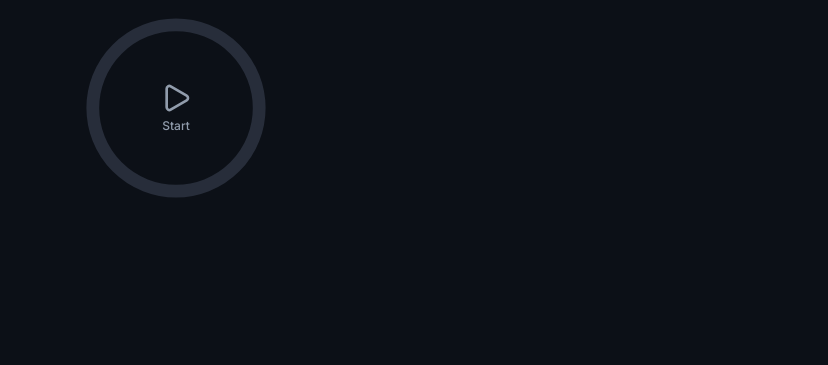
Test: B404 — Previous phase at the start of a set › goes back to the rest before it, and that rest leads back to the same set
The image size is (828, 365).
Step 1. Click the button "Start" → (176, 108), box [160, 82, 192, 134]
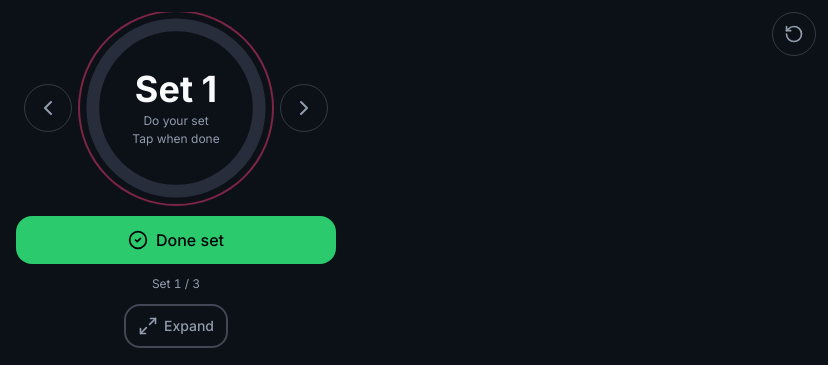
Step 2. Click the button "Done set" → (176, 240), box [16, 216, 336, 264]
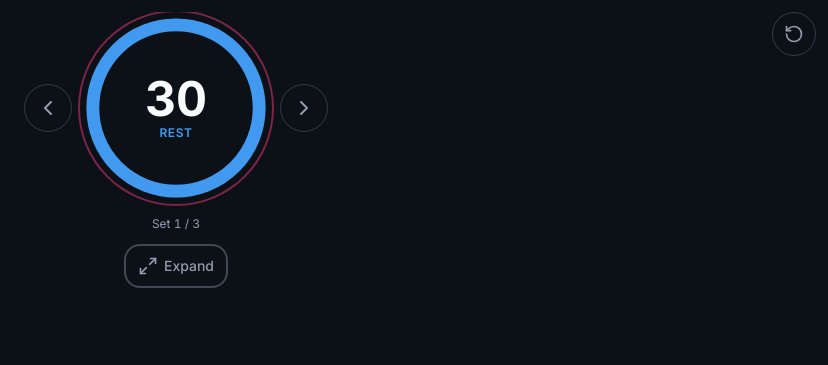
Step 3. Click the button named "next phase" → (304, 108), box [280, 84, 328, 132]
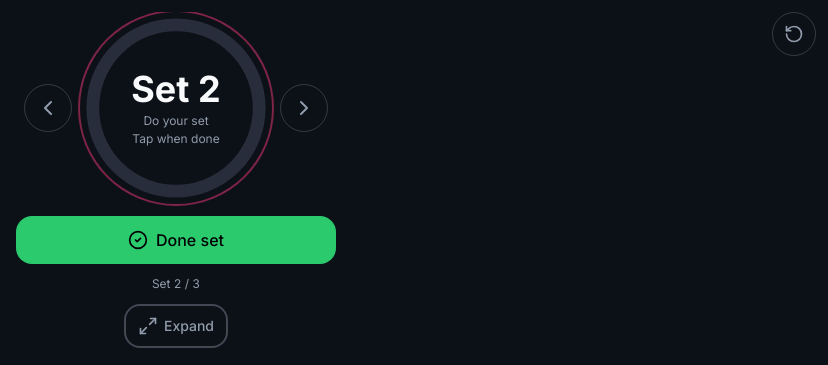
Expected: the text "Set 2" is shown, [131, 69, 221, 109]
Step 4. Click the button named "previous phase" → (48, 108), box [24, 84, 72, 132]
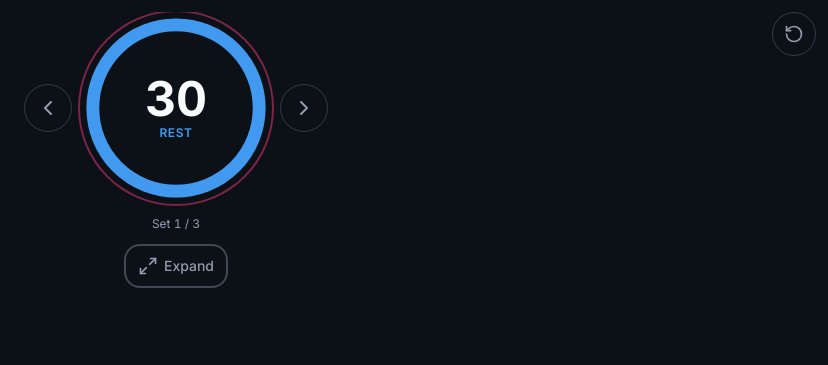
Step 5. Click the button named "next phase" → (304, 108), box [280, 84, 328, 132]
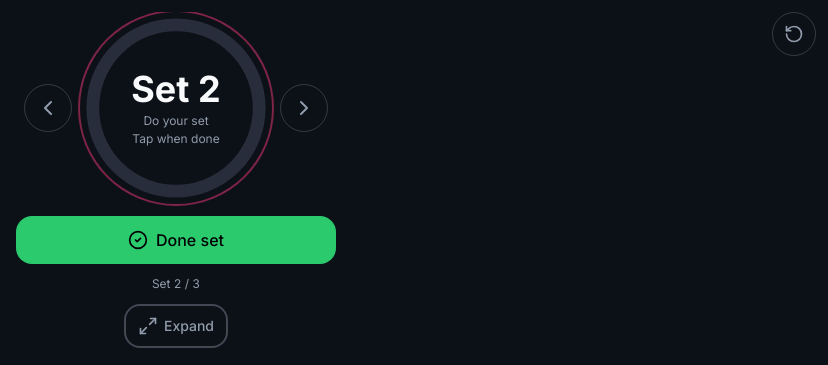
Expected: the text "Set 2" is shown, [131, 69, 221, 109]
